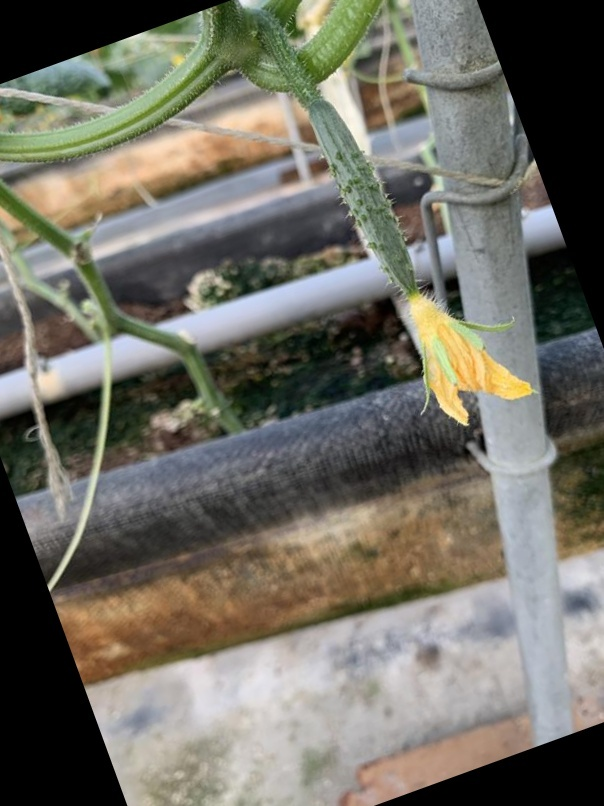bear: (288, 79, 529, 434)
